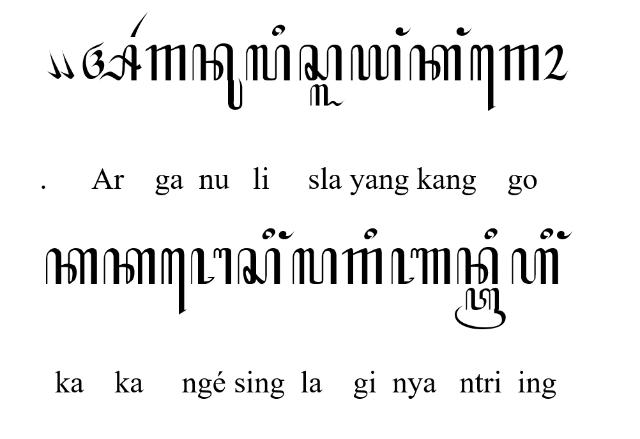A: (82, 40, 142, 82)
_l: (310, 83, 344, 107)
_r1: (130, 11, 148, 37)
e1: (160, 247, 188, 315), (470, 44, 496, 112)
g: (342, 247, 382, 286), (146, 43, 187, 81), (500, 44, 540, 81)
h: (510, 247, 560, 286)
i: (262, 228, 276, 242), (484, 227, 498, 241), (539, 228, 553, 241), (364, 228, 378, 240), (272, 24, 284, 36)
k: (44, 248, 98, 286), (408, 44, 462, 81), (102, 249, 156, 285)
kom: (59, 48, 75, 80), (46, 49, 60, 79)
l: (292, 248, 338, 286), (245, 44, 291, 81)
n: (456, 248, 499, 286)
ng: (456, 26, 474, 36), (556, 231, 574, 241), (396, 26, 412, 36), (279, 230, 295, 240)
nga: (190, 247, 232, 285)
nu: (191, 42, 243, 109)
ny1: (391, 246, 452, 286)
o: (542, 43, 570, 81)
s: (299, 44, 343, 82), (237, 247, 281, 285)
tr: (454, 287, 506, 331)
y: (351, 44, 402, 82)
